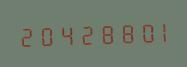eight: (93, 20, 111, 46), (112, 19, 130, 45)
four: (55, 21, 73, 47)
one: (150, 18, 168, 44)
two: (17, 22, 35, 49), (74, 20, 92, 47)
zero: (131, 18, 149, 45), (36, 22, 54, 48)
